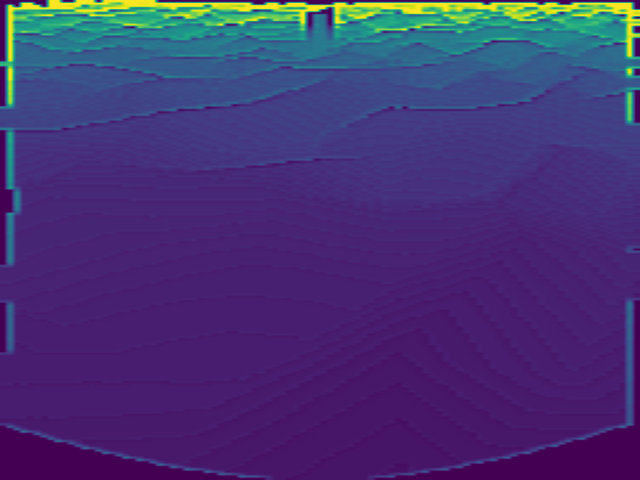car_0198: (299, 6, 338, 38)
